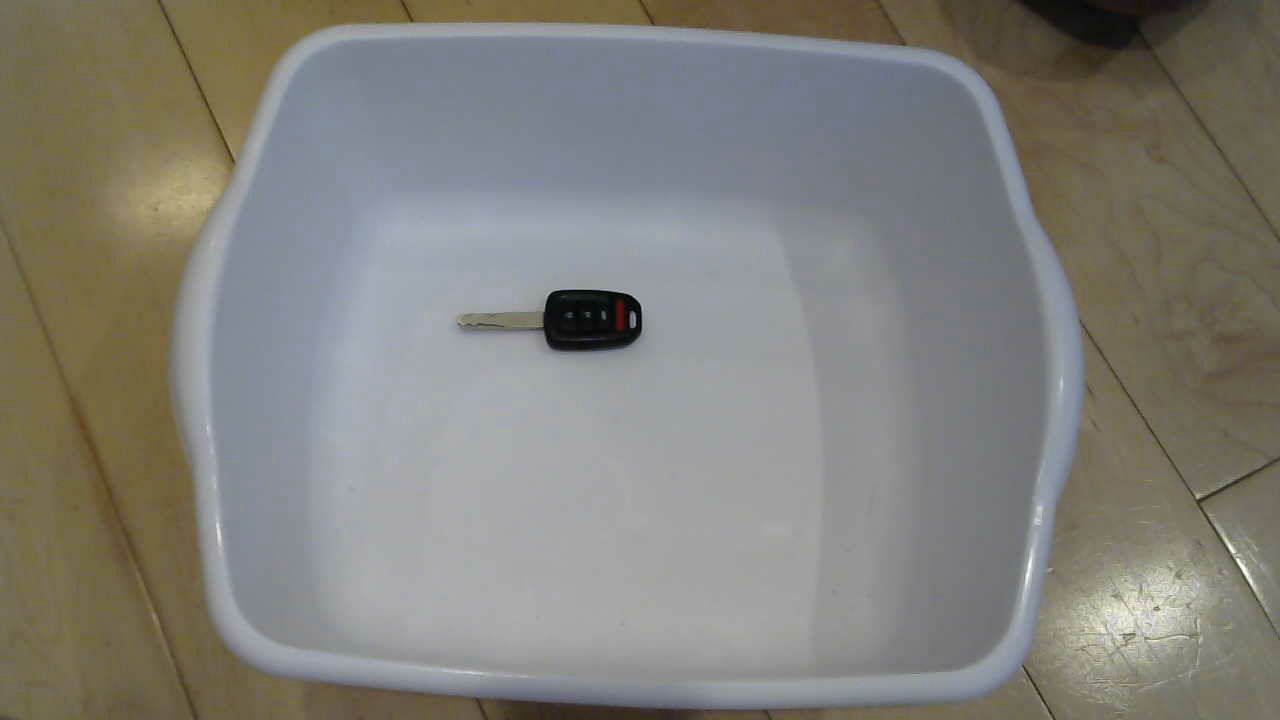key: (449, 275, 675, 376)
